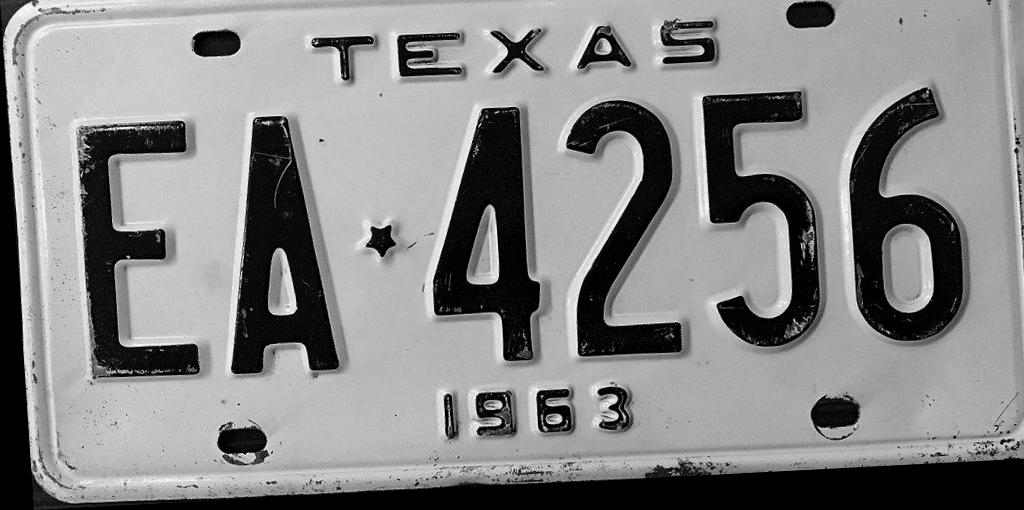License_Plate: (15, 0, 1024, 497)
